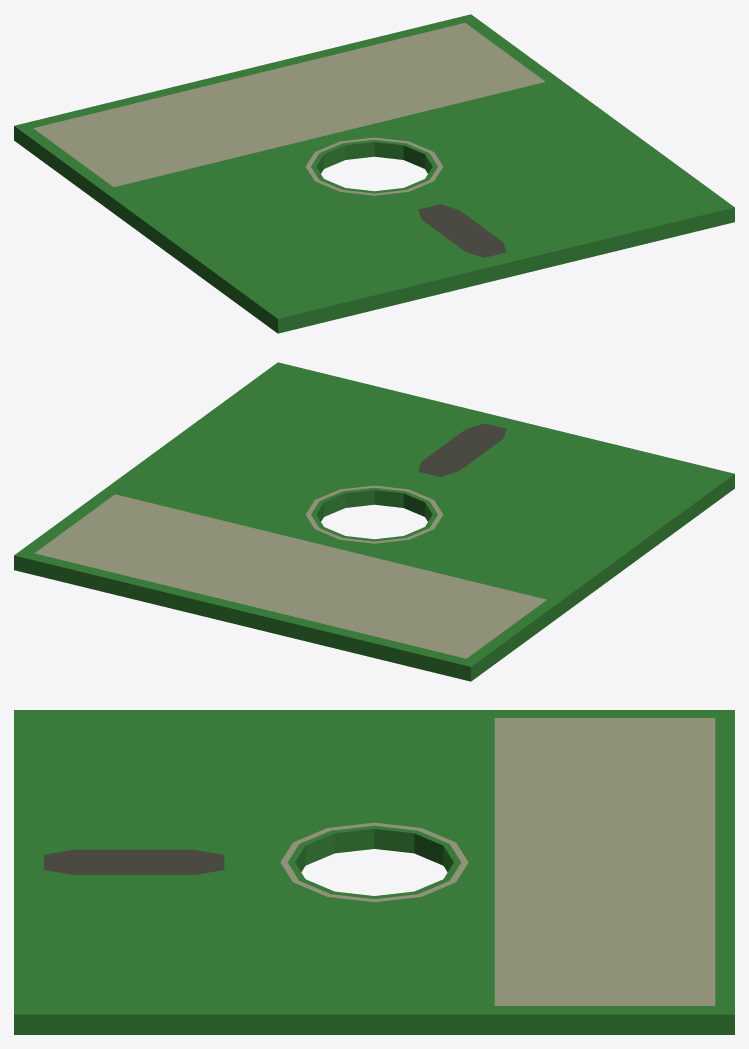
File: FloppyDiscGreen.fbx
The picture shows the model from 3 angles, top to bottom: view 1: azimuth 30°, elevation 25°; view 2: azimuth 150°, elevation 25°; view 3: azimuth 270°, elevation 25°; orthographic projection. The views are drawn at different scales.
Parts seen in each view (by area): view 1: 5.25FloppyDiskGreen; view 2: 5.25FloppyDiskGreen; view 3: 5.25FloppyDiskGreen.
Boxes of the visible parts, x1,y1,x2,y2 form: 5.25FloppyDiskGreen: (14, 14, 734, 333); 5.25FloppyDiskGreen: (14, 362, 734, 681); 5.25FloppyDiskGreen: (14, 710, 734, 1034).
Bounding box in the file's own units: 13.27 × 0.4085 × 13.27.
